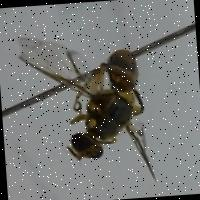Oriental-fruit-fly: (12, 4, 170, 194)
